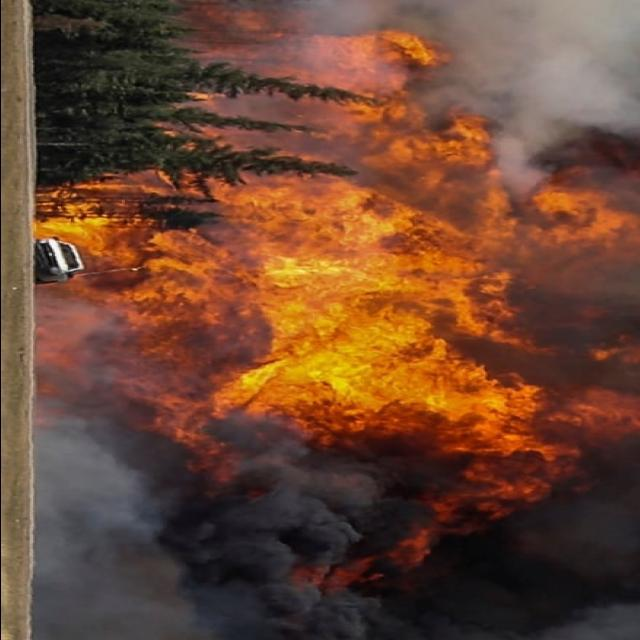Fire: (35, 29, 622, 590)
